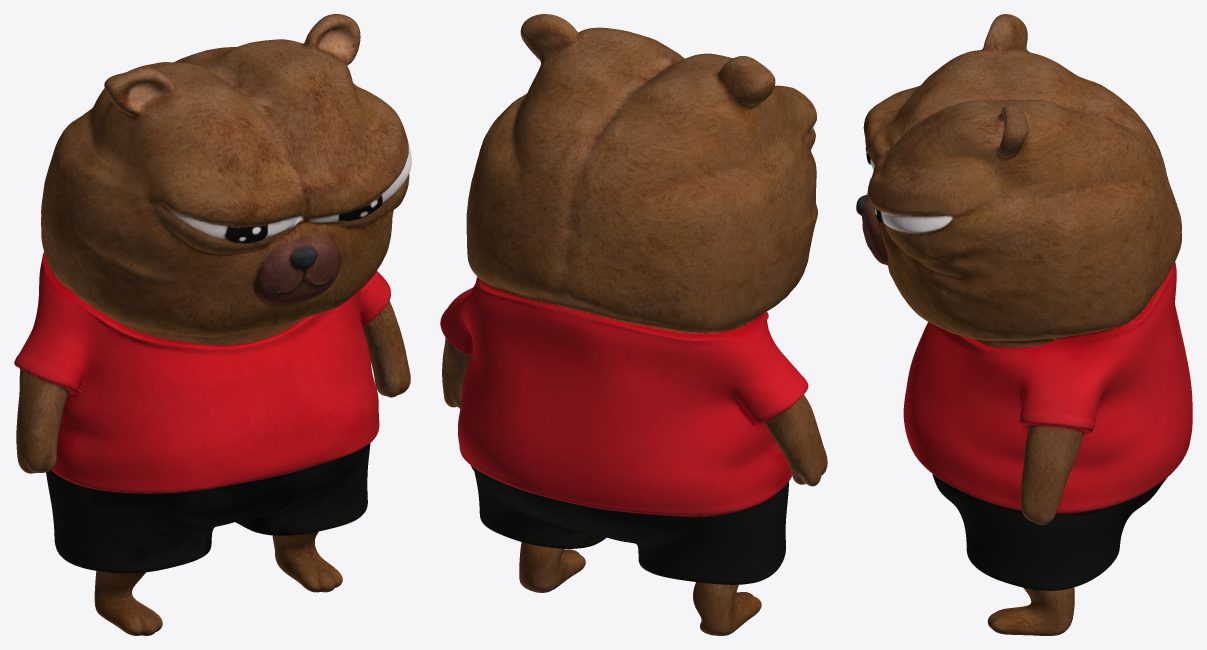
The model's file is bobo-3d.glb.
3 renders of one model, left to right at view 1: azimuth 30°, elevation 25°; view 2: azimuth 150°, elevation 25°; view 3: azimuth 270°, elevation 25°, orthographic. The views are drawn at different scales.
Visible parts, largest first — view 1: Mesh_0; view 2: Mesh_0; view 3: Mesh_0.
Boxes of the visible parts, left/top/right/bottom form: Mesh_0: left=14, top=14, right=411, bottom=635; Mesh_0: left=440, top=14, right=827, bottom=635; Mesh_0: left=856, top=14, right=1192, bottom=635.
Size of the model in its own units: 1.34 by 1.9 by 1.09.
1 material, 1 textured.
